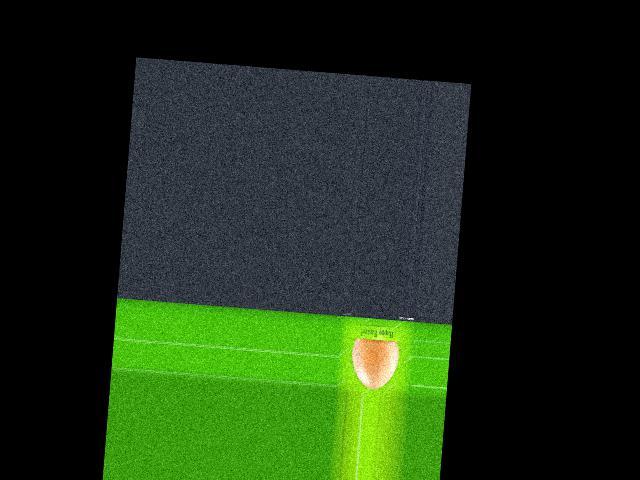egg: (349, 338, 399, 390)
